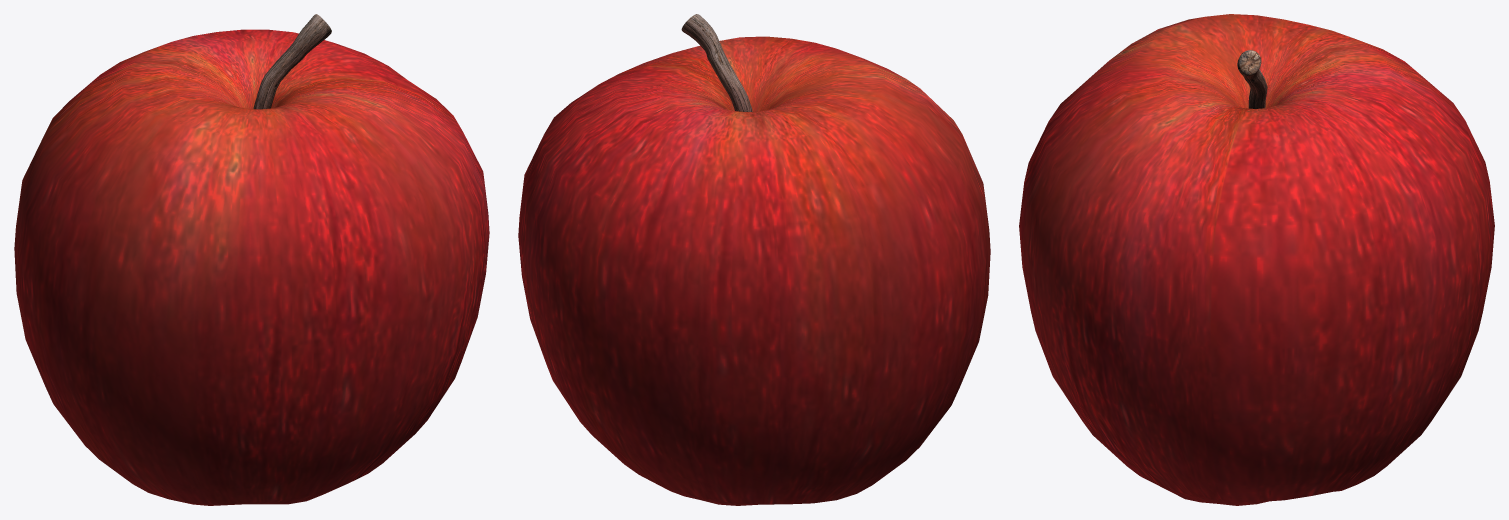
File: apple.glb
The picture shows the model from 3 angles, left to right: view 1: azimuth 30°, elevation 25°; view 2: azimuth 150°, elevation 25°; view 3: azimuth 270°, elevation 25°; orthographic projection. The views are drawn at different scales.
Visible parts, largest first — view 1: Apple; view 2: Apple; view 3: Apple.
Part boxes in pixels (bbox=[...]): Apple: bbox=[14, 14, 489, 505]; Apple: bbox=[518, 14, 990, 505]; Apple: bbox=[1019, 14, 1494, 505].
Size of the model in its own units: 1.18 by 1.2 by 1.13.
1 material, 1 textured.
